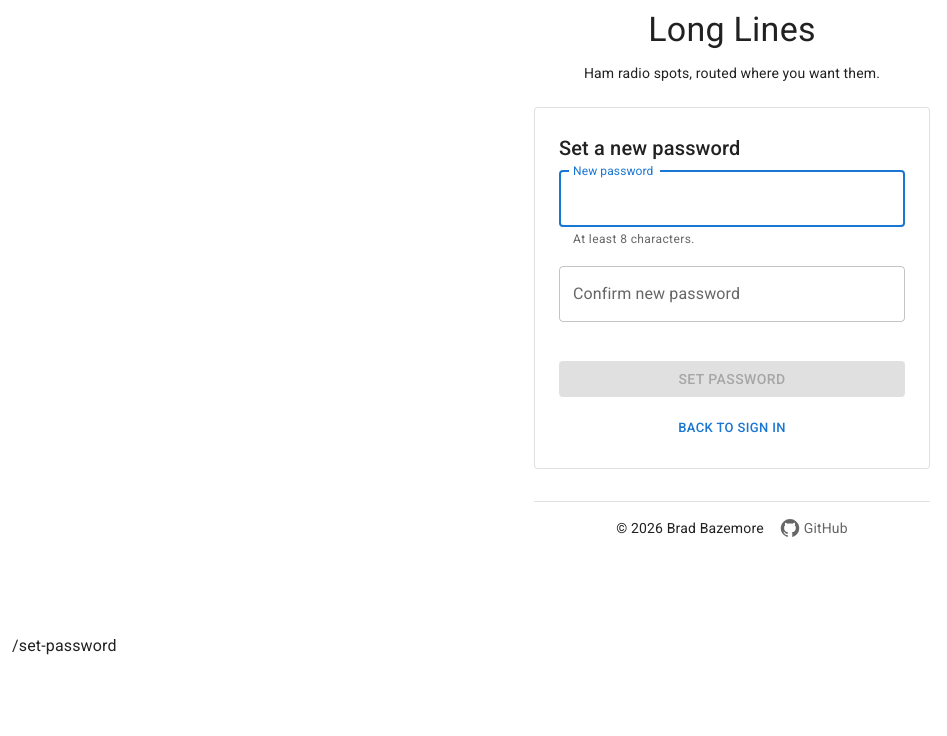
Test: SetPasswordPage › shows the update error
The image size is (947, 736).
Type "hunter22" into the password field labelled "New password".
click(732, 199); type("hunter22")  # box [559,171,905,227]
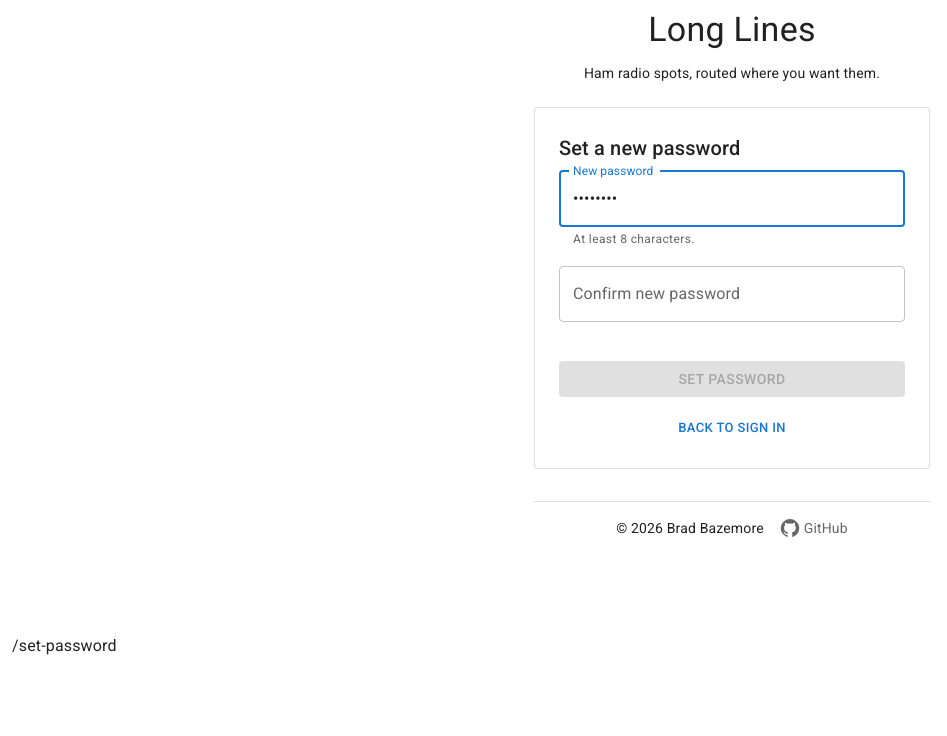
Type "hunter22" into the password field labelled "Confirm new password".
click(732, 294); type("hunter22")  # box [559,266,905,322]
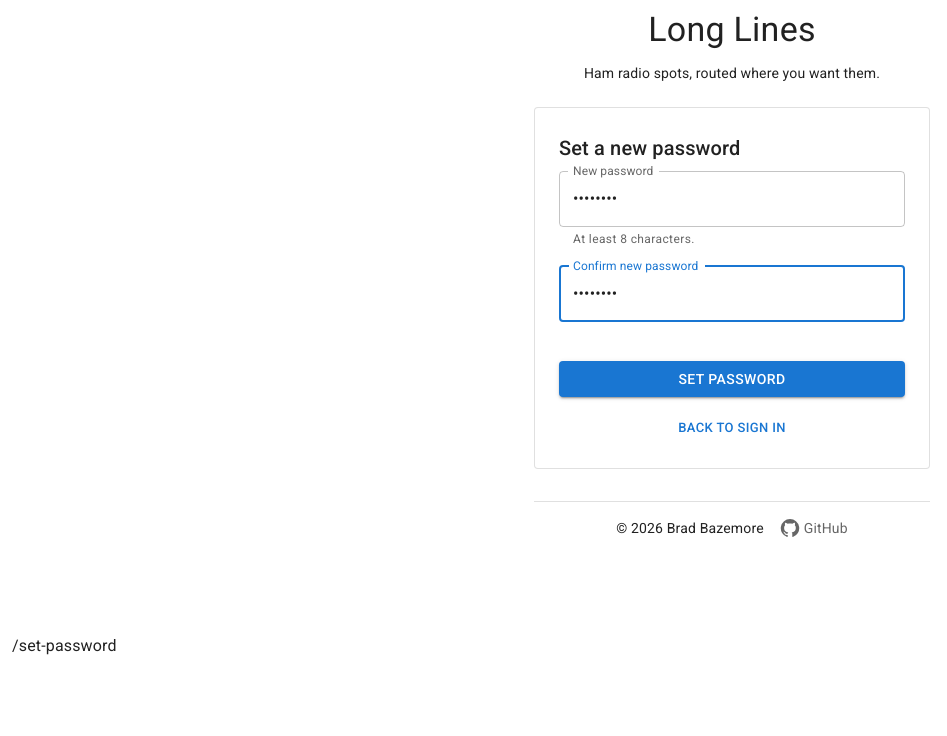
Click the button "Set password".
click(732, 379)  # box [559,361,905,397]
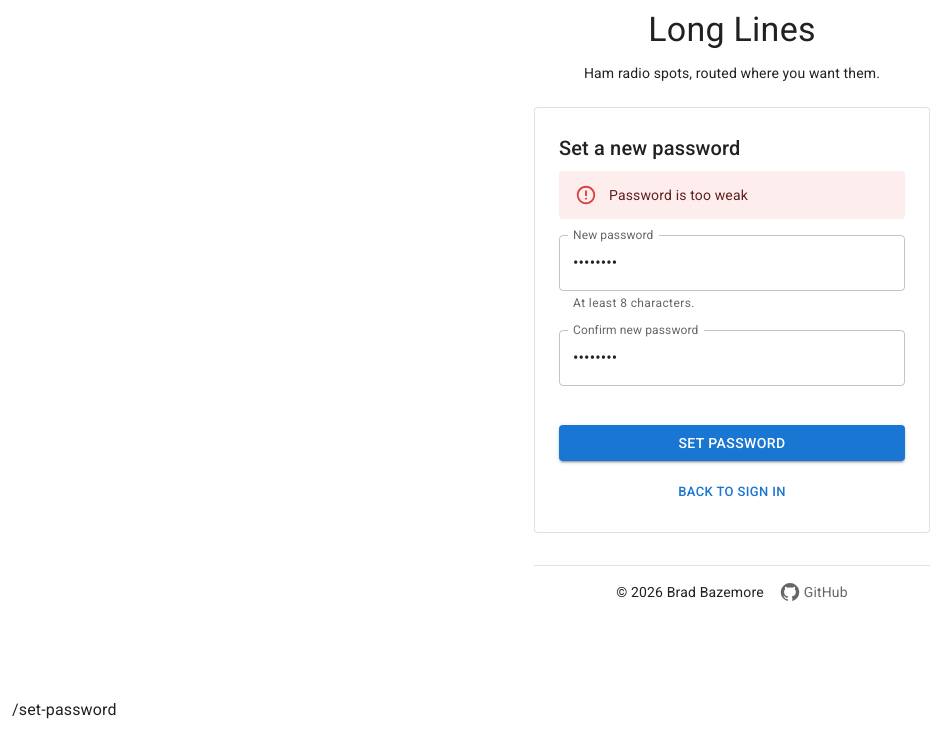
Result: the text "Password is too weak" is shown at [609,187,748,203]
